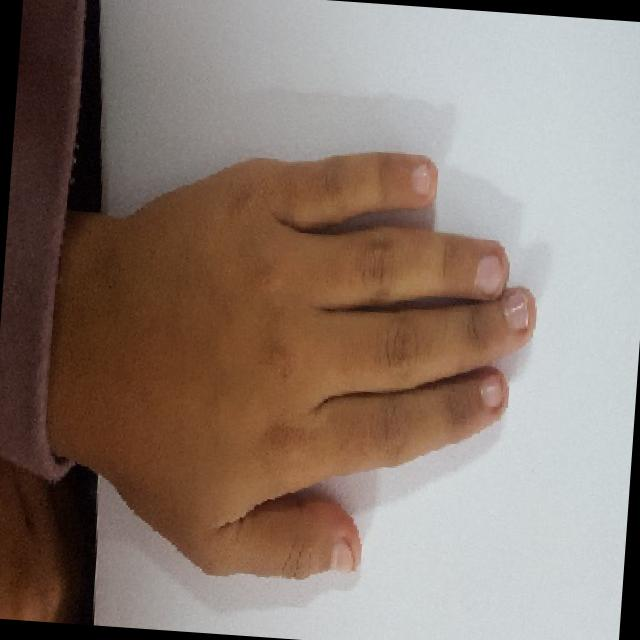Nail: (473, 254, 504, 294), (502, 287, 527, 329), (477, 372, 503, 407), (328, 540, 354, 571), (409, 163, 430, 196)
